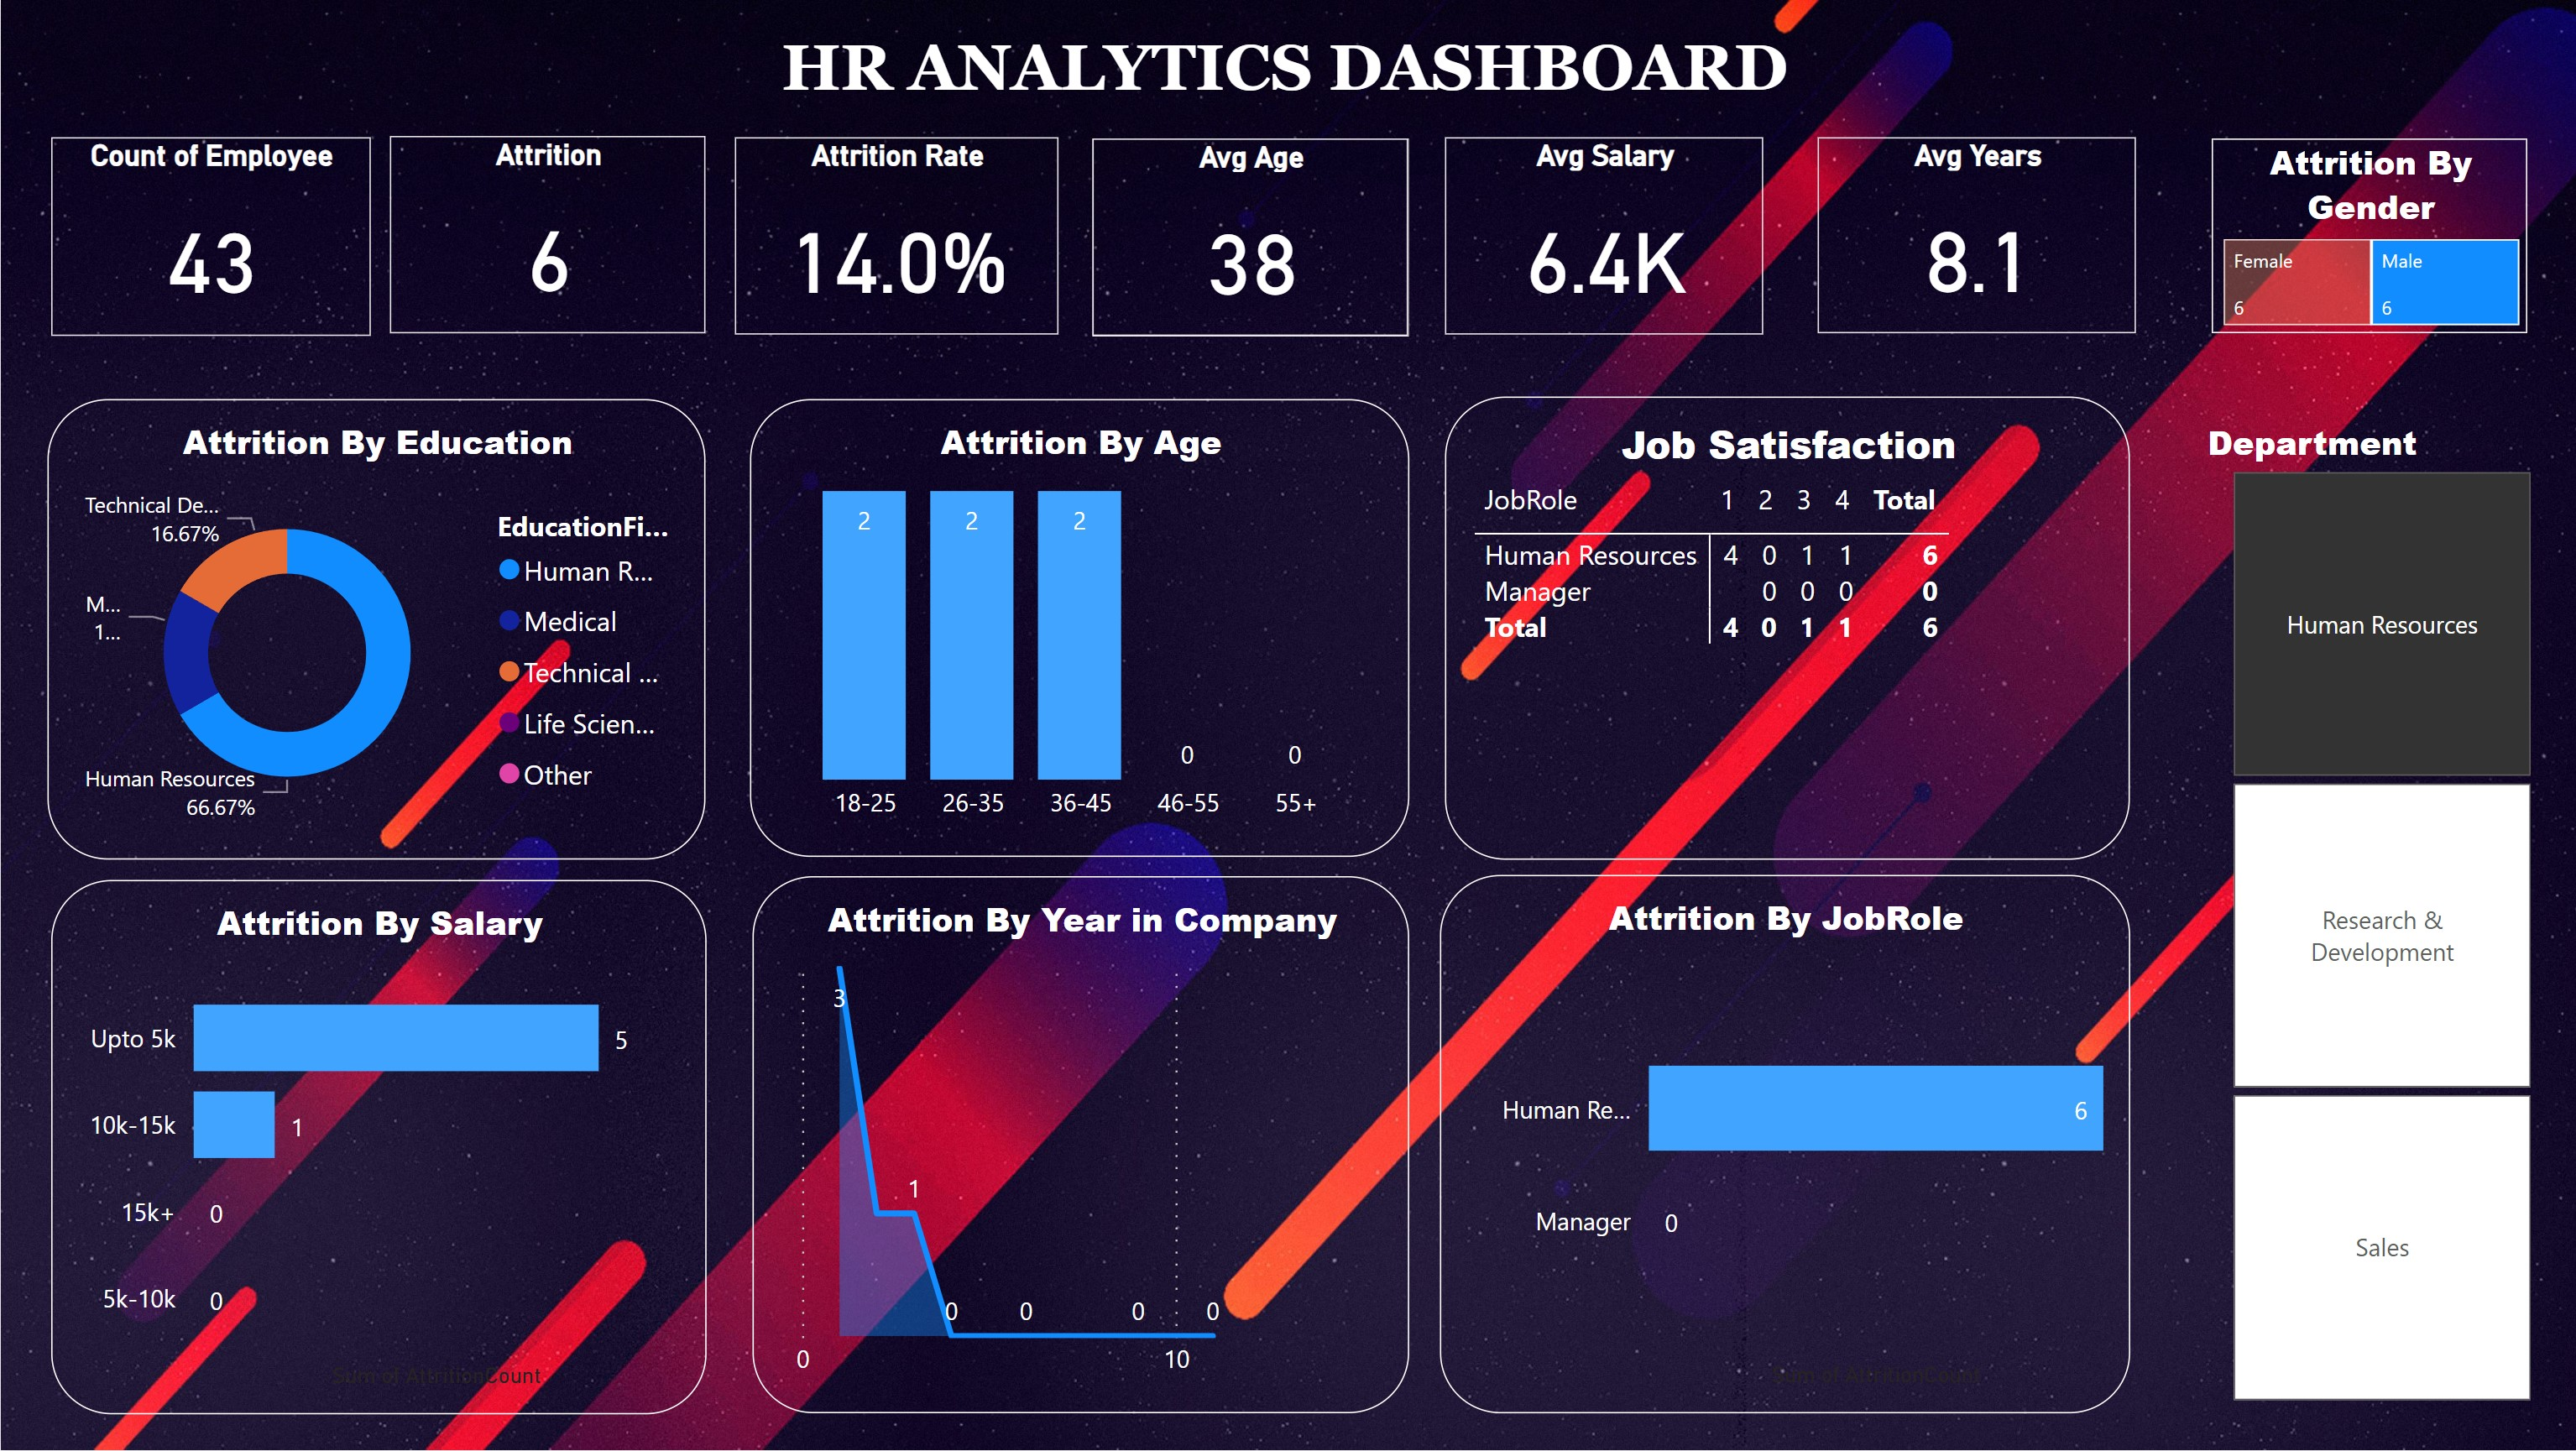

This screenshot's page, from the dashboard's own definition file:
{"tool":"powerbi","page":{"name":"Page 1","canvas":[1280,720],"ordinal":0},"visuals":[{"type":"card","title":"Count of Employee","fields":{"Values":["CountNonNull(HR SHEET.EmpID)"]},"box":[25,68.3,158.3,98.3],"z":0},{"type":"card","title":"Attrition","fields":{"Values":["Sum(HR SHEET.AttritionCount)"]},"box":[193.3,67.5,156.6,98.2],"z":1000},{"type":"card","title":"Attrition Rate","fields":{"Values":["HR SHEET.AttritionRate"]},"box":[373.4,72.9,160.2,92.7],"z":2000},{"type":"card","title":"Avg Age","fields":{"Values":["Avg(HR SHEET.Age)"]},"box":[542.6,72.9,156.6,92.7],"z":3000},{"type":"card","title":"Avg Salary","fields":{"Values":["Avg(HR SHEET.MonthlyIncome)"]},"box":[717.7,72.3,157.7,93.8],"z":4000},{"type":"card","title":"Avg Years","fields":{"Values":["Avg(HR SHEET.YearsAtCompany)"]},"box":[898.5,69.2,158.5,96.9],"z":5000},{"type":"donutChart","title":"Attrition By Education","fields":{"Category":["HR SHEET.EducationField"],"Y":["Sum(HR SHEET.AttritionCount)"]},"box":[23.3,198.3,326.7,228.3],"z":6000},{"type":"columnChart","title":"Attrition By Age","fields":{"Category":["HR SHEET.AgeGroup"],"Y":["Sum(HR SHEET.AttritionCount)"]},"box":[371.6,198.1,327.6,227.1],"z":7000},{"type":"pivotTable","title":" Job Satisfaction","fields":{"Columns":["HR SHEET.JobSatisfaction"],"Rows":["HR SHEET.JobRole"],"Values":["Sum(HR SHEET.AttritionCount)"]},"box":[716.9,196.9,340,230],"z":8000},{"type":"barChart","title":"Attrition By Salary","fields":{"Category":["HR SHEET.SalarySlab"],"Y":["Sum(HR SHEET.AttritionCount)"]},"box":[25,436.7,325,280],"z":9000},{"type":"areaChart","title":"Attrition By Year in Company","fields":{"Category":["HR SHEET.YearsAtCompany"],"Y":["Sum(HR SHEET.AttritionCount)"]},"box":[373.4,434.8,325.8,280.1],"z":10000},{"type":"barChart","title":"Attrition By JobRole","fields":{"Y":["Sum(HR SHEET.AttritionCount)"],"Category":["HR SHEET.JobRole"]},"box":[714.6,434.6,342.3,280],"z":11000},{"type":"treemap","title":"Attrition By Gender","fields":{"Group":["HR SHEET.Gender"],"Values":["Sum(HR SHEET.AttritionCount)"]},"box":[1103.1,67.7,156.9,99.2],"z":12000},{"type":"slicer","fields":{"Values":["HR SHEET.Department"]},"box":[1082.3,203.1,197.7,498.5],"z":13000},{"type":"textbox","box":[373.1,10,528.5,52.3],"z":14000}]}

Visuals, with their boxes in screenshot pixels (x1, y1, x2, y2), scaled from the page's 1280x720 canvas onto the 2576x1451 screenshot:
"Count of Employee" card: pyautogui.locateOnScreen(50, 138, 368, 336)
"Attrition" card: pyautogui.locateOnScreen(389, 136, 704, 334)
"Attrition Rate" card: pyautogui.locateOnScreen(751, 147, 1074, 334)
"Avg Age" card: pyautogui.locateOnScreen(1092, 147, 1407, 334)
"Avg Salary" card: pyautogui.locateOnScreen(1445, 146, 1762, 335)
"Avg Years" card: pyautogui.locateOnScreen(1808, 139, 2127, 335)
"Attrition By Education" donutChart: pyautogui.locateOnScreen(47, 399, 704, 859)
"Attrition By Age" columnChart: pyautogui.locateOnScreen(748, 399, 1407, 857)
" Job Satisfaction" pivotTable: pyautogui.locateOnScreen(1443, 397, 2127, 860)
"Attrition By Salary" barChart: pyautogui.locateOnScreen(50, 880, 704, 1444)
"Attrition By Year in Company" areaChart: pyautogui.locateOnScreen(751, 876, 1407, 1441)
"Attrition By JobRole" barChart: pyautogui.locateOnScreen(1438, 876, 2127, 1440)
"Attrition By Gender" treemap: pyautogui.locateOnScreen(2220, 137, 2536, 337)
slicer - HR SHEET.Department: pyautogui.locateOnScreen(2178, 410, 2575, 1414)
textbox: pyautogui.locateOnScreen(751, 20, 1815, 126)
